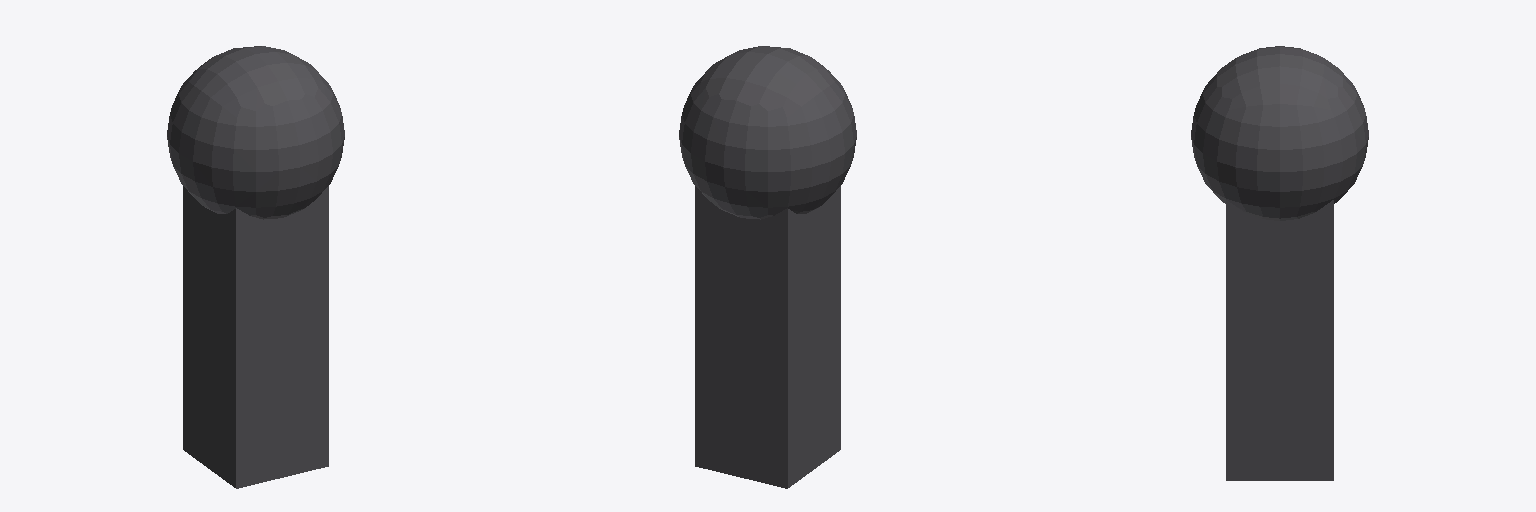
File: BallSocket.obj
3 views of the same model, side by side, from view 1: azimuth 30°, elevation 25°; view 2: azimuth 150°, elevation 25°; view 3: azimuth 270°, elevation 25° (orthographic).
Visible parts, largest first — view 1: Handle1; view 2: Handle1; view 3: Handle1.
Part boxes in pixels (x1,y1,x2,y2): Handle1: (167, 46, 344, 488); Handle1: (679, 46, 856, 488); Handle1: (1191, 46, 1368, 480).
Bounding box in the file's own units: 0.5 × 1.25 × 0.5.